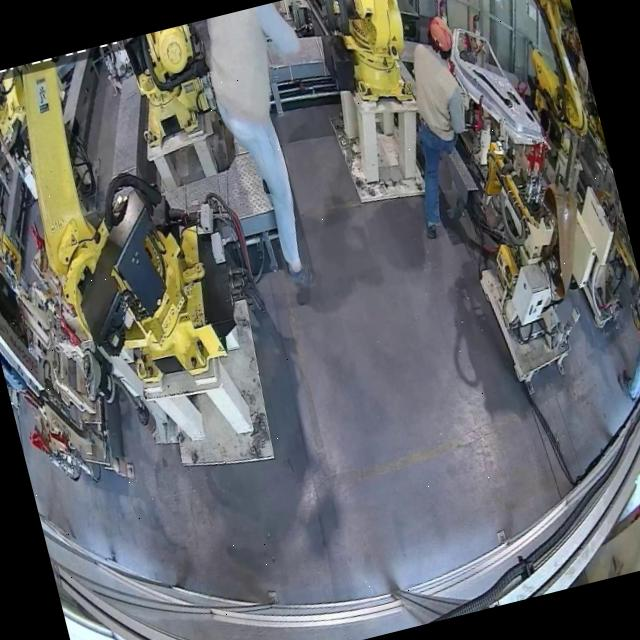Person: (194, 0, 357, 297), (375, 12, 498, 240)
